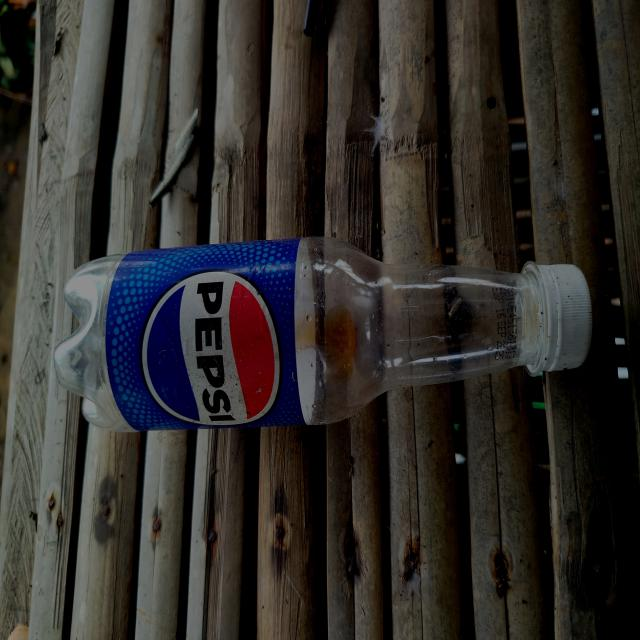plastic: (50, 226, 596, 438)
